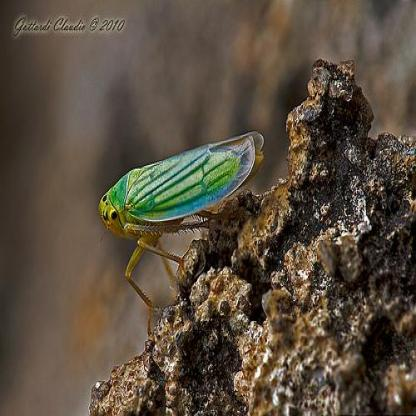Green-Leafhopper: (89, 126, 270, 319)
